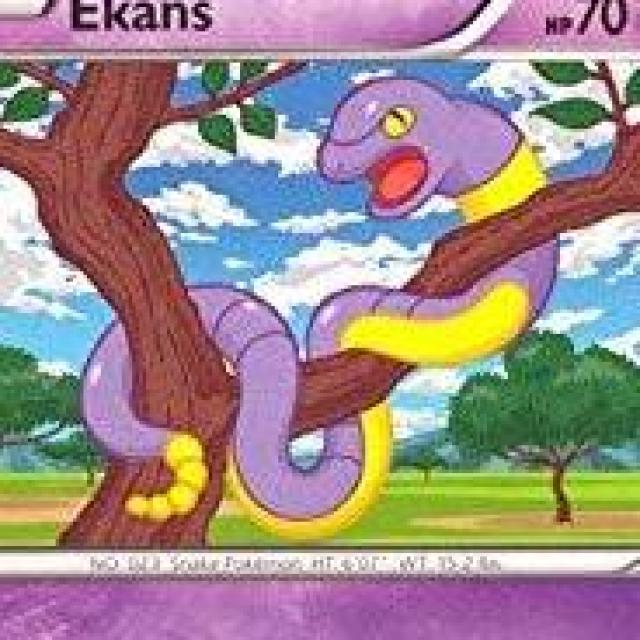Ekans: (72, 78, 558, 458)
